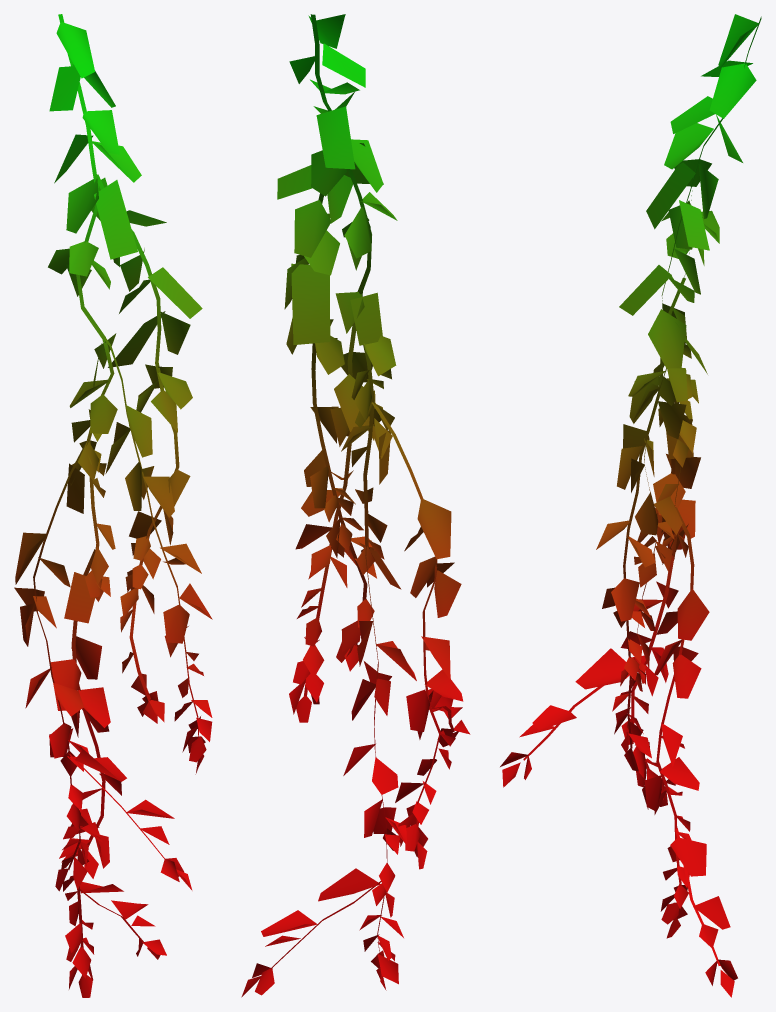
Rendered from Var10_LOD4.fbx.
The picture shows the model from 3 angles, left to right: view 1: azimuth 30°, elevation 25°; view 2: azimuth 150°, elevation 25°; view 3: azimuth 270°, elevation 25°; orthographic projection. The views are drawn at different scales.
Visible parts, largest first — view 1: _37hs_Var10_LOD4; view 2: _37hs_Var10_LOD4; view 3: _37hs_Var10_LOD4.
Part boxes in pixels (x1,y1,x2,y2): _37hs_Var10_LOD4: [14, 14, 212, 997]; _37hs_Var10_LOD4: [241, 14, 470, 997]; _37hs_Var10_LOD4: [500, 14, 761, 997].
Size of the model in its own units: 24.27 by 129 by 32.59.
